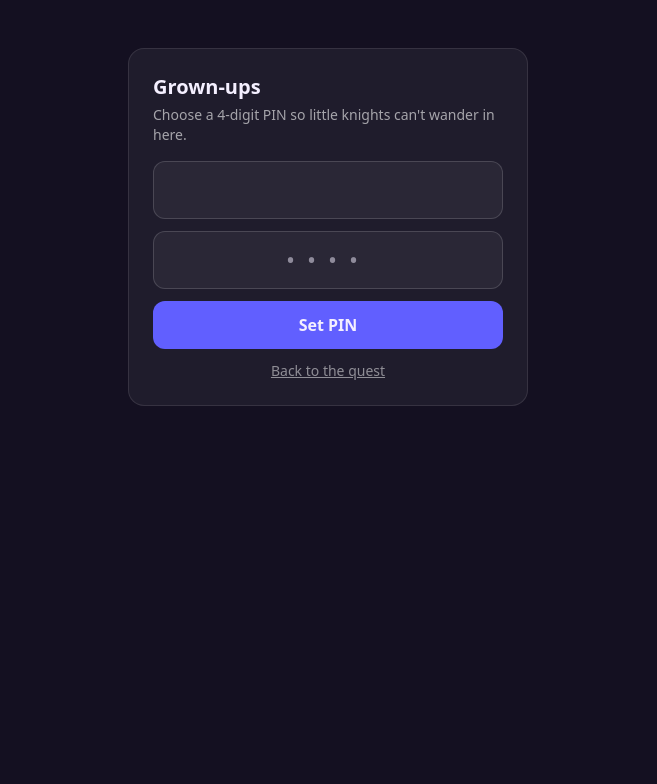
Scenario: PIN gate › matching PINs unlock the dashboard and persist the PIN
Type "1234" into the password field named "PIN". click: {"x": 328, "y": 190}
box: [153,161,503,219]
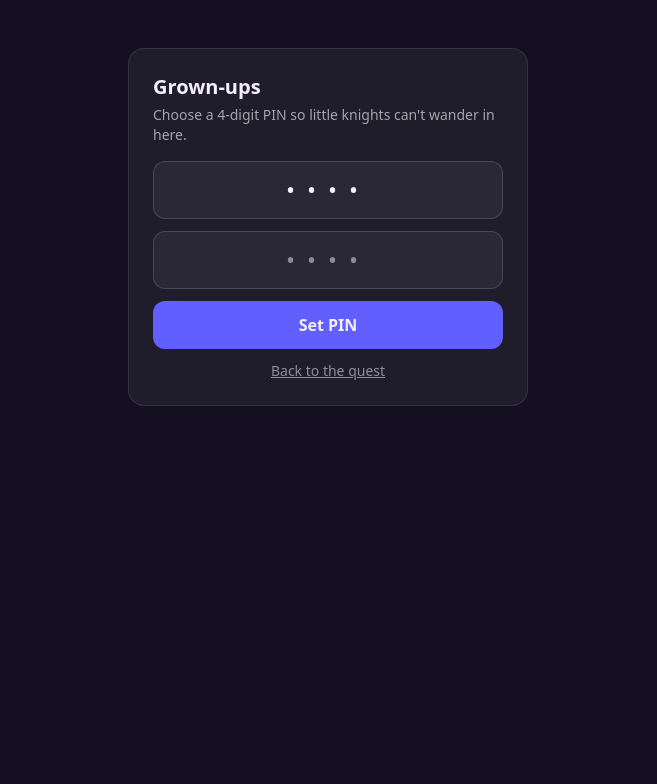
Type "1234" into the password field named "PIN". click: {"x": 328, "y": 260}
box: [153,231,503,289]
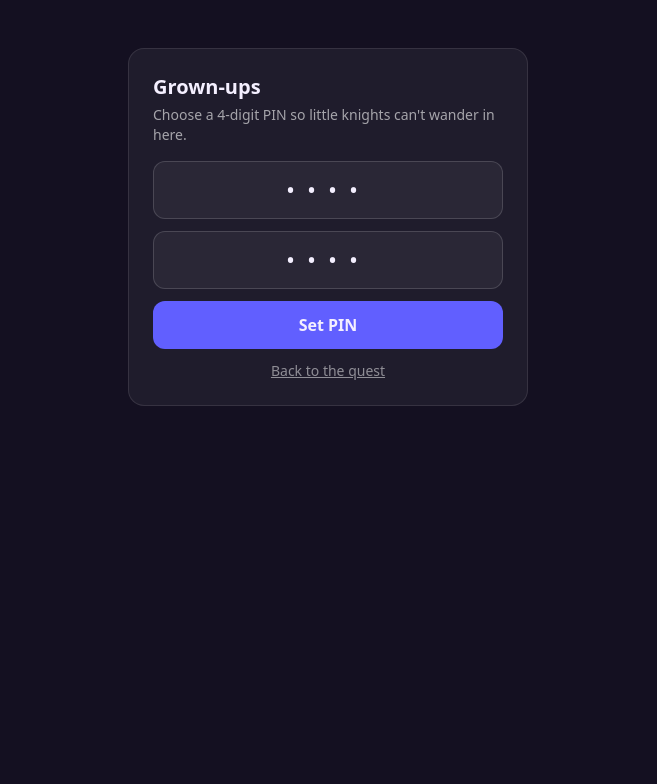
Click the button "Set PIN". click: {"x": 328, "y": 325}
box: [153,301,503,349]
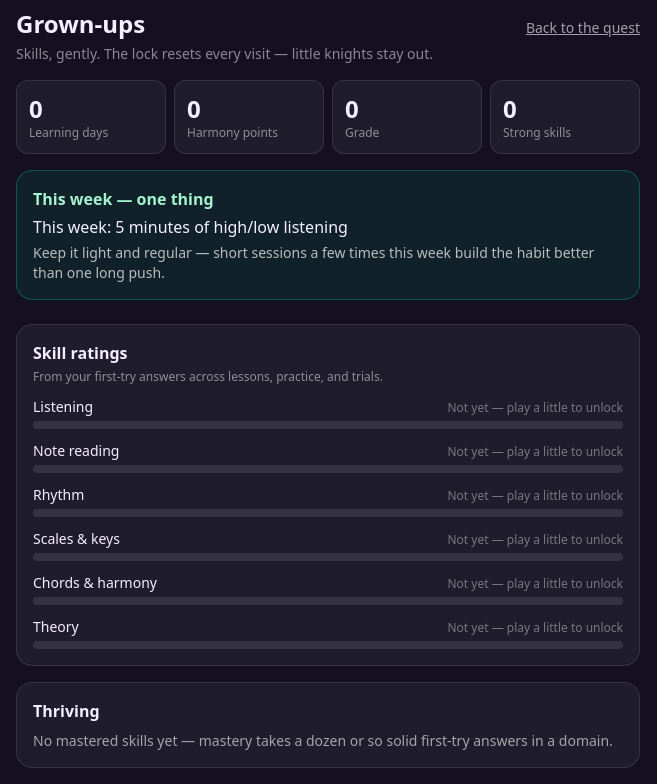
expect the text "Learning days" is shown: met, box [29,124,108,141]
